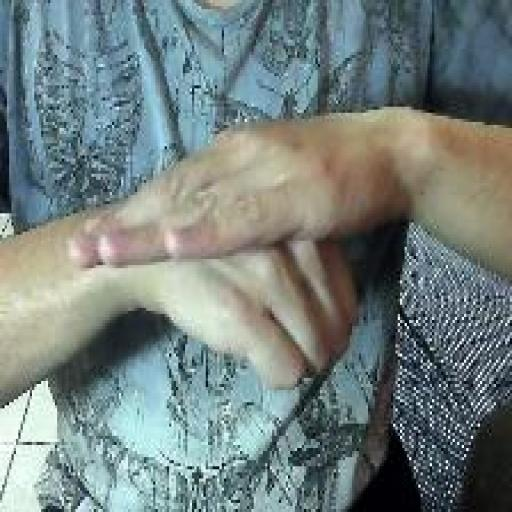Inu -dog-: (65, 108, 367, 395)
